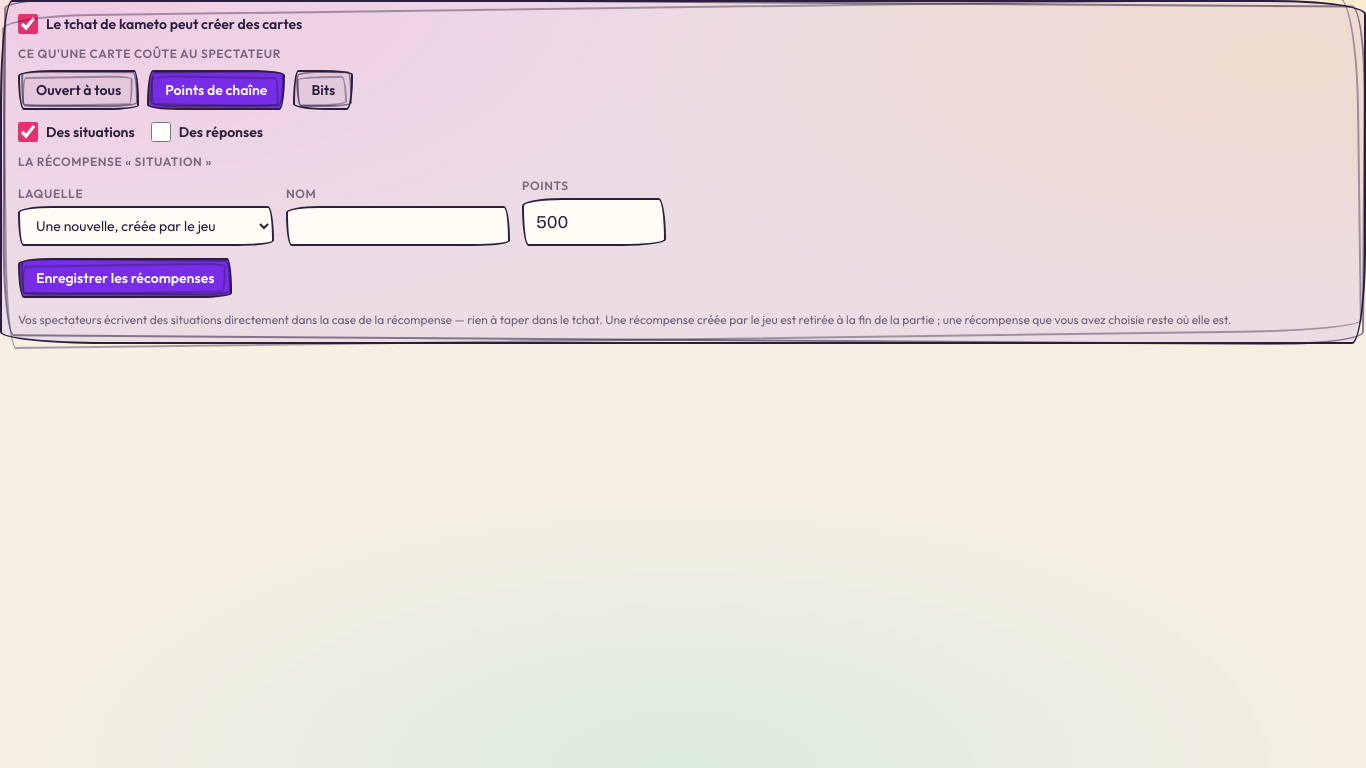
Test: ChatCardsForm › says which reward Twitch never posted, and lets the host try again
The width and height of the screenshot is (1366, 768).
Click the button "Enregistrer les récompenses" at coordinates (125, 278), box [18,258,232,298]
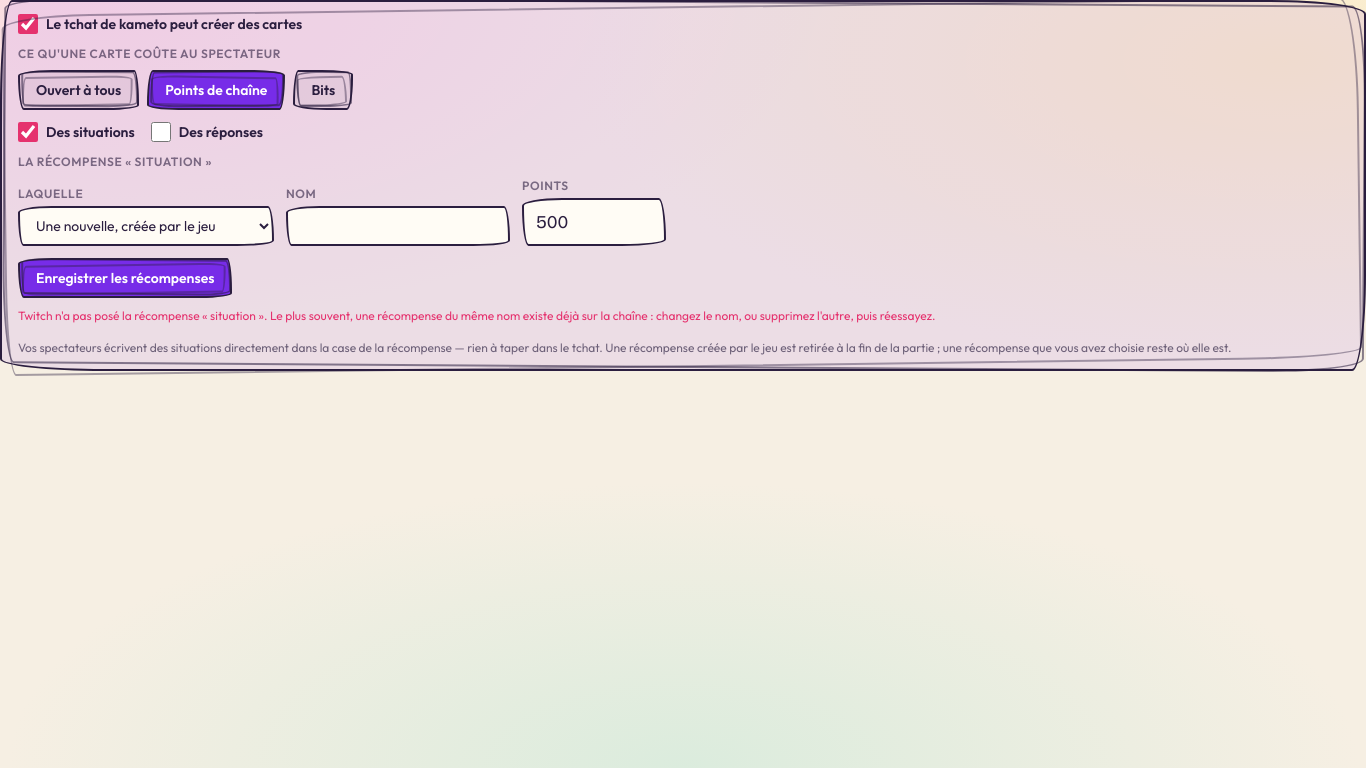
Check: the text "n'a pas posé la récompense « situation »" is shown, box [18,308,936,323]
